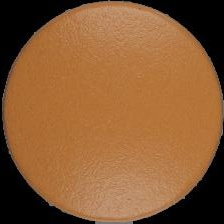0781-1787: (0, 0, 224, 224)
